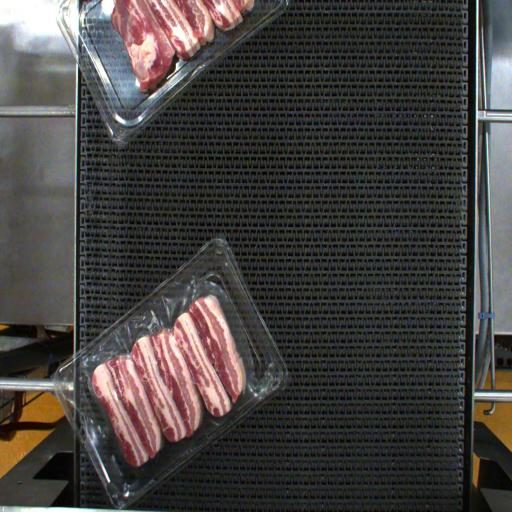unsealed: (94, 300, 250, 446)
